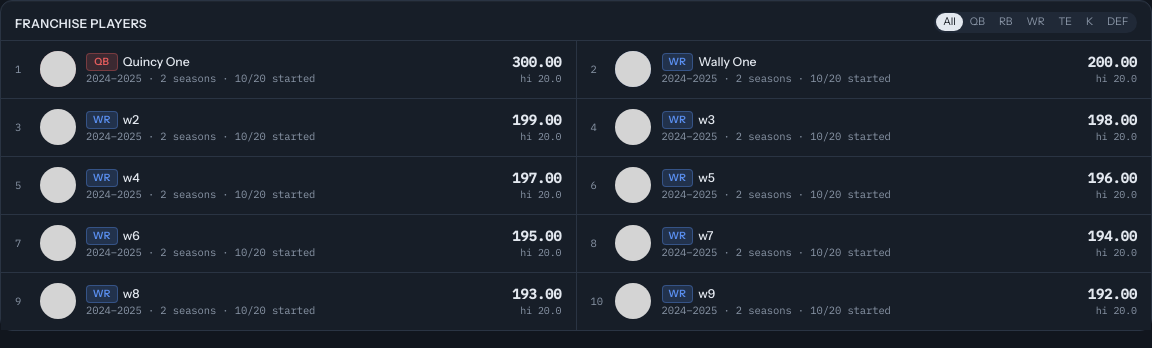
it: FranchisePlayers › shows the top ten in the order given and filters by position
The image size is (1152, 348).
expect the text "Quincy One" is shown: met, box [123,53,190,70]
expect the text "Ricky One" is not shown: met
What coordinates should you click on to do the following:
click the button "RB"
I would click on:
 (1006, 22)
Its box is [992,13,1019,31].
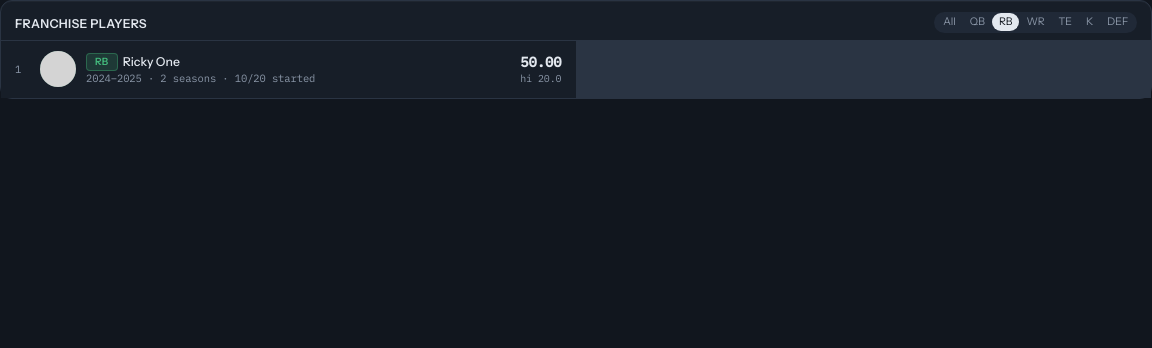
expect the number of list items is 1: met, box [1,40,576,98]
expect the text "Ricky One" is shown: met, box [123,53,180,70]
What coordinates should you click on to do the following:
click the button "TE"
I would click on:
 (1065, 22)
Its box is [1052,13,1079,31].
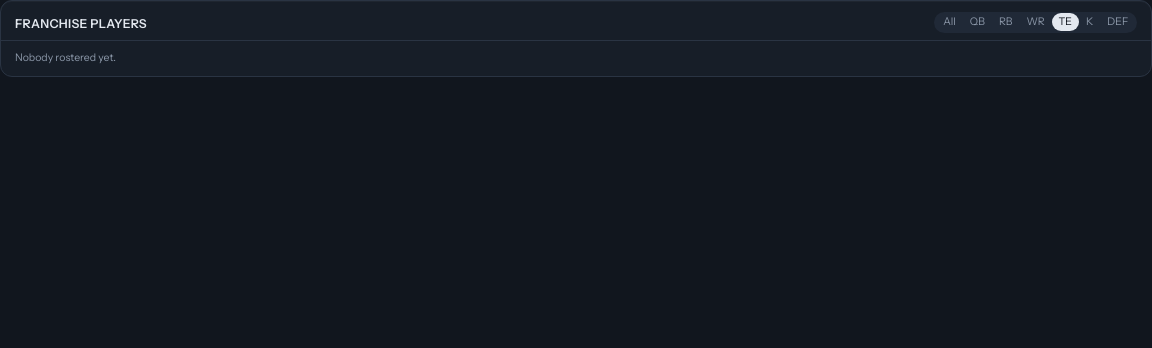
expect the text "Nobody rostered yet." is shown: met, box [15,51,116,64]
